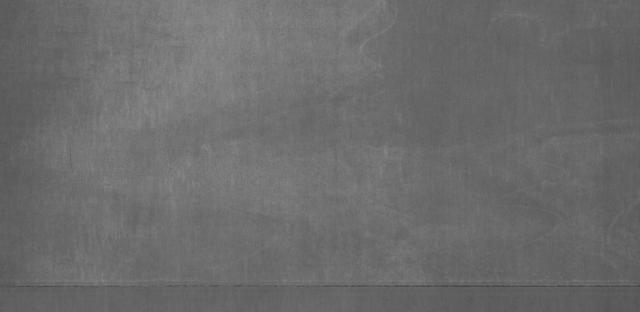welding_line: (0, 276, 640, 297)
